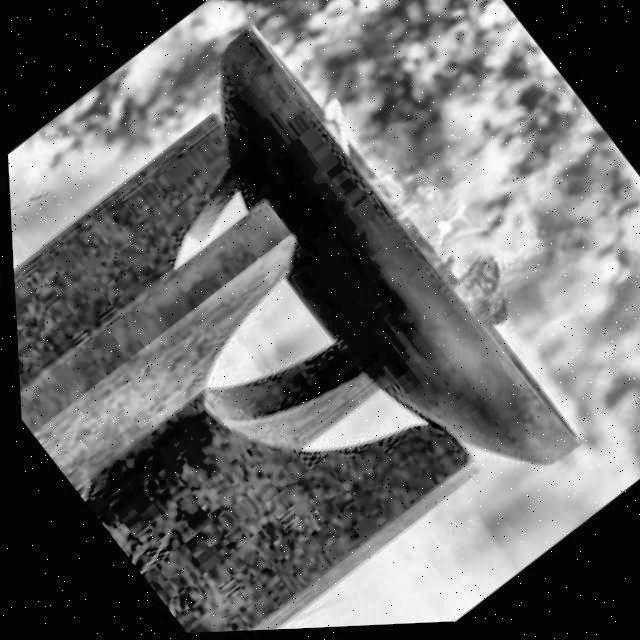Fire: (300, 61, 517, 322)
